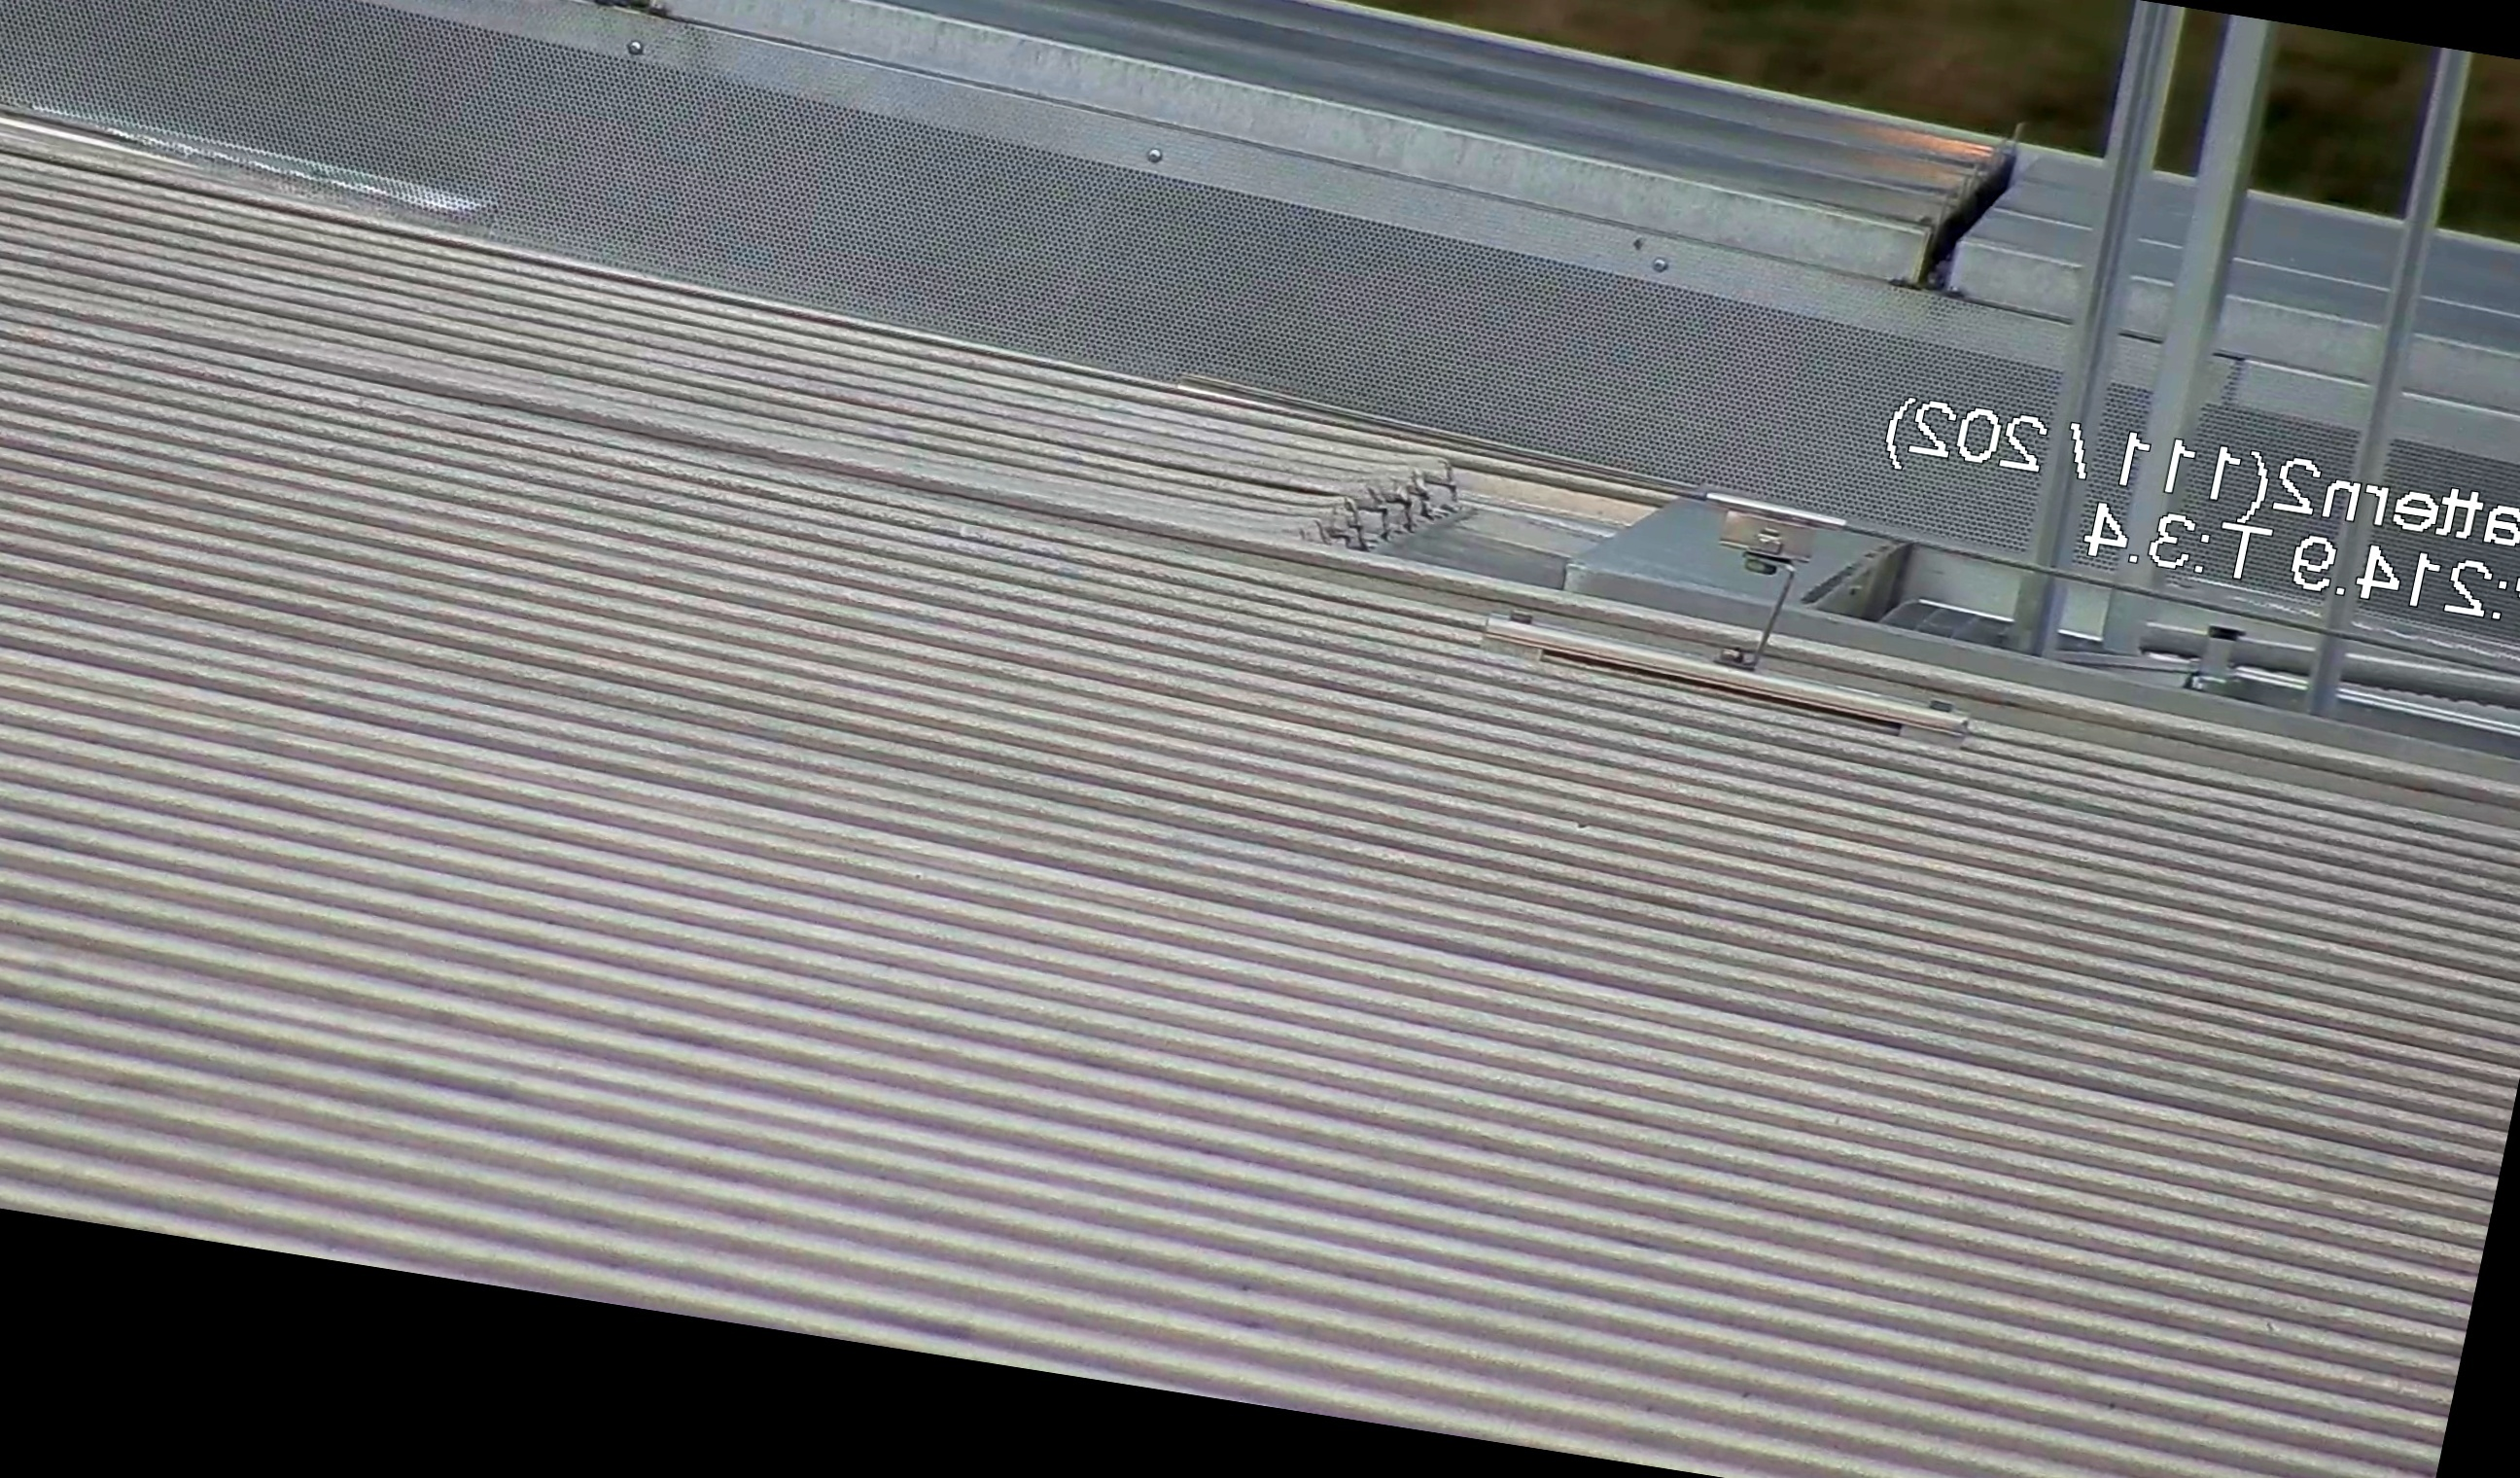Other: (1896, 109, 2070, 308)
